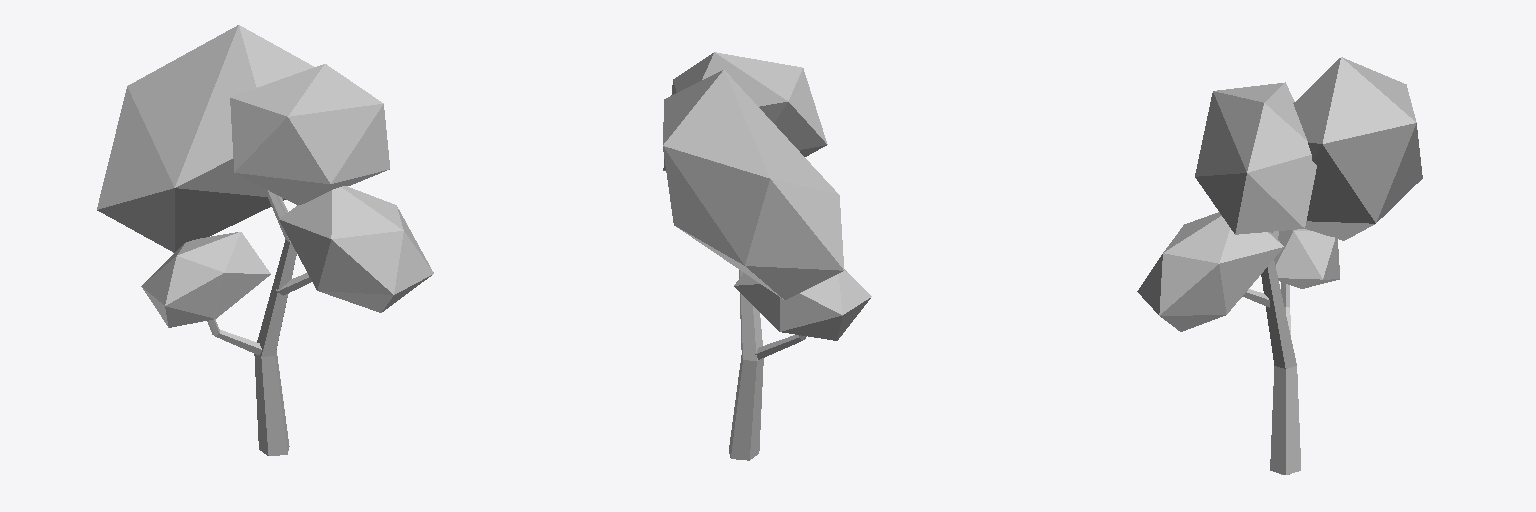
File: tree01.obj
The picture shows the model from 3 angles: view 1: azimuth 30°, elevation 25°; view 2: azimuth 150°, elevation 25°; view 3: azimuth 270°, elevation 25°; orthographic projection.
Visible parts, largest first — view 1: tree01; view 2: tree01; view 3: tree01.
Boxes of the visible parts, <box> form: tree01: <box>97,25,433,455</box>; tree01: <box>663,52,871,460</box>; tree01: <box>1137,57,1422,474</box>.
Size of the model in its own units: 61.68 by 103 by 64.75.